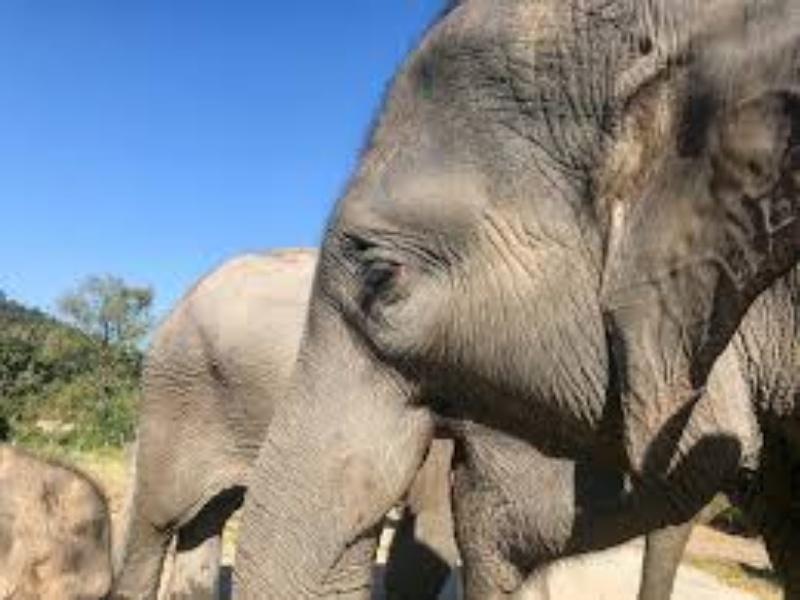elephant: (238, 1, 798, 600)
